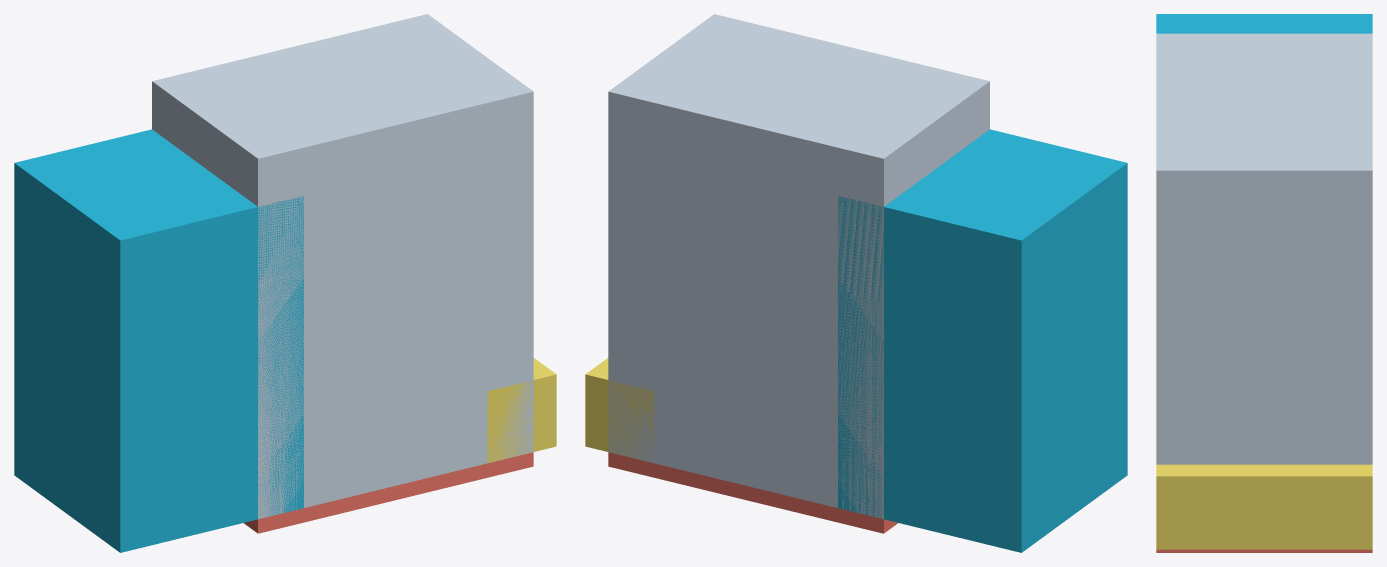
The model's file is concrete_gravity_dam_stability_analysis.glb.
3 renders of one model, left to right at view 1: azimuth 30°, elevation 25°; view 2: azimuth 150°, elevation 25°; view 3: azimuth 270°, elevation 25°, orthographic.
Parts seen in each view (by area): view 1: ConcreteGravityDamTrapezoidalMonolith, ReservoirHydrostaticWaterWedge, ToeCompressiveStressConcentrationZone, TriangularUpliftPressureBaseProfile; view 2: ConcreteGravityDamTrapezoidalMonolith, ReservoirHydrostaticWaterWedge, ToeCompressiveStressConcentrationZone, TriangularUpliftPressureBaseProfile; view 3: ConcreteGravityDamTrapezoidalMonolith, ToeCompressiveStressConcentrationZone, ReservoirHydrostaticWaterWedge, TriangularUpliftPressureBaseProfile.
Part boxes in pixels (x1=…): ConcreteGravityDamTrapezoidalMonolith: x1=152, y1=14, x2=533, y2=519; ReservoirHydrostaticWaterWedge: x1=14, y1=129, x2=303, y2=552; ToeCompressiveStressConcentrationZone: x1=487, y1=358, x2=556, y2=463; TriangularUpliftPressureBaseProfile: x1=244, y1=452, x2=533, y2=533; ConcreteGravityDamTrapezoidalMonolith: x1=608, y1=14, x2=989, y2=519; ReservoirHydrostaticWaterWedge: x1=838, y1=129, x2=1127, y2=552; ToeCompressiveStressConcentrationZone: x1=585, y1=358, x2=654, y2=462; TriangularUpliftPressureBaseProfile: x1=608, y1=452, x2=897, y2=533; ConcreteGravityDamTrapezoidalMonolith: x1=1156, y1=33, x2=1372, y2=464; ToeCompressiveStressConcentrationZone: x1=1156, y1=464, x2=1372, y2=549; ReservoirHydrostaticWaterWedge: x1=1156, y1=14, x2=1372, y2=33; TriangularUpliftPressureBaseProfile: x1=1156, y1=549, x2=1372, y2=552.
Size of the model in its own units: 1.9 by 1.56 by 0.8.
